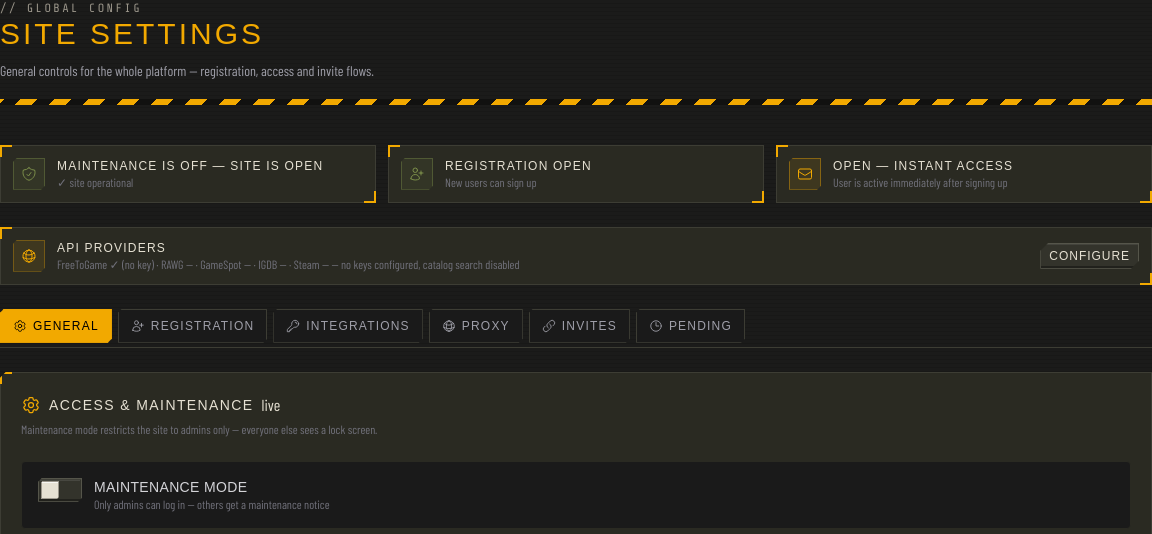
Test: GlobalSettingsForm tabs › reveals the panel that matches the clicked tab
Expected: the heading "Access & maintenance" is shown, [49,395,254,415]
Step 1. Click the button "Registration" → click(193, 326), box [118,309,267,343]
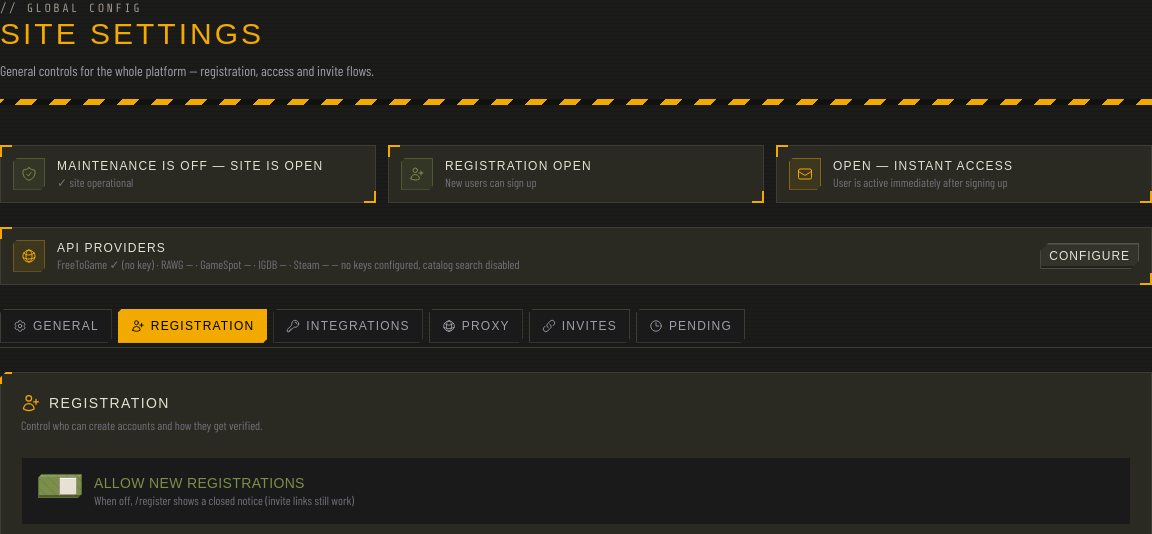
Result: the heading "Registration" is shown at [49,393,170,413]
Result: the heading "Access & maintenance" is gone
Step 2. Click the button "Integrations" → click(348, 326), box [273,309,423,343]
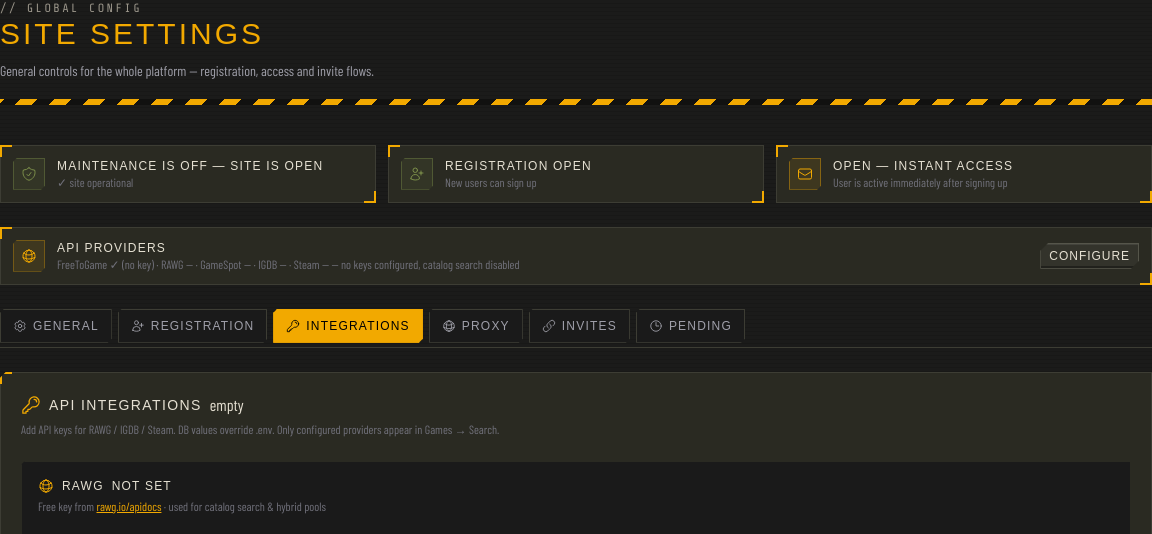
Result: the heading "API Integrations" is shown at [49,395,202,415]
Step 3. Click the button "Proxy" → click(476, 326), box [429,309,523,343]
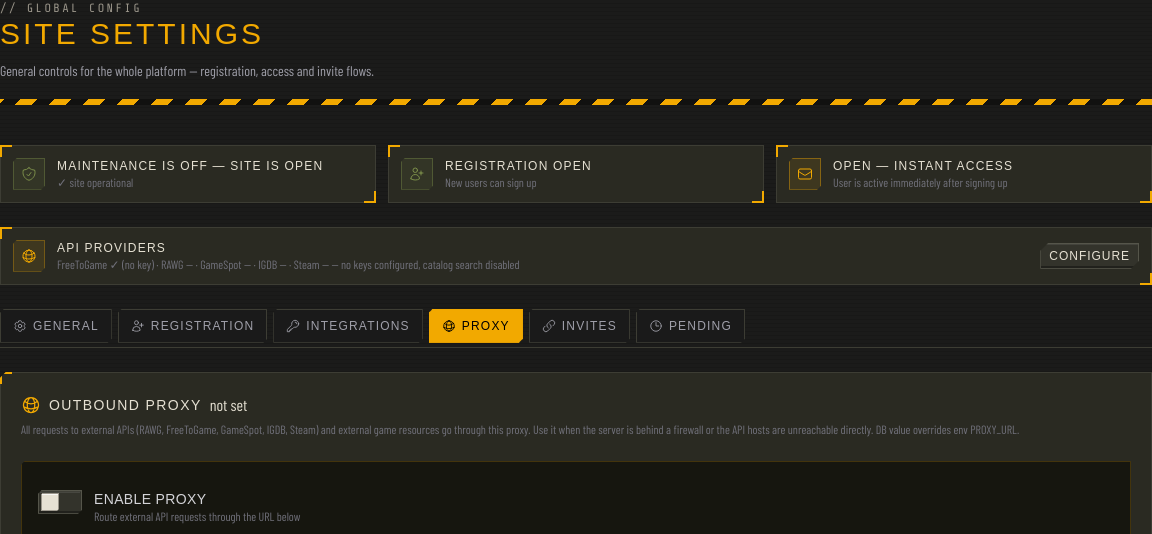
Result: the heading "Outbound proxy" is shown at [49,395,202,415]
Step 4. Click the button "Invites" → click(579, 326), box [529,309,630,343]
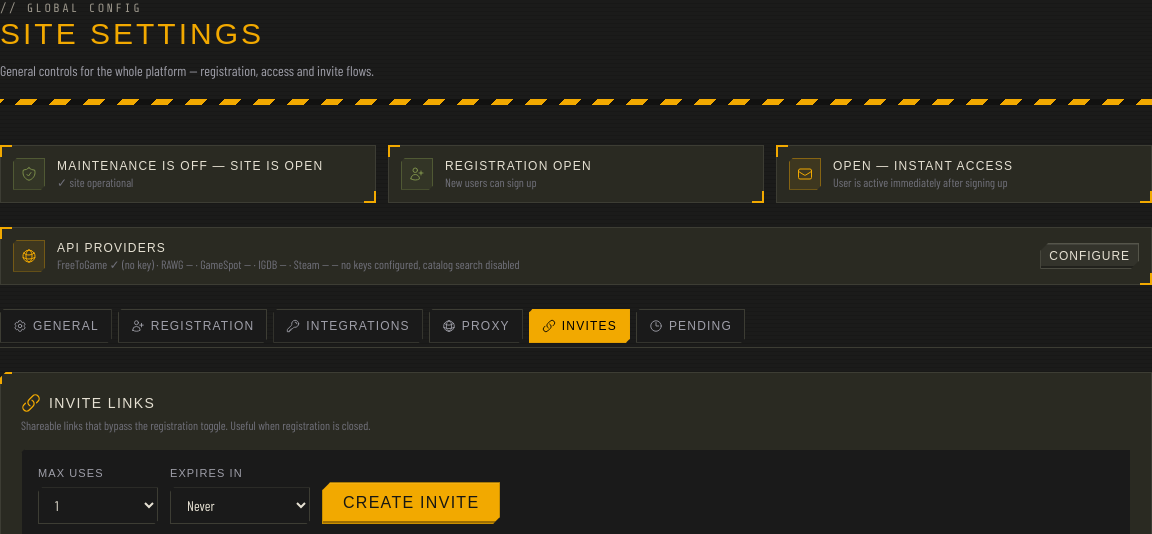
Result: the heading "Invite links" is shown at [49,393,155,413]
Step 5. Click the button "Pending" → click(690, 326), box [636,309,745,343]
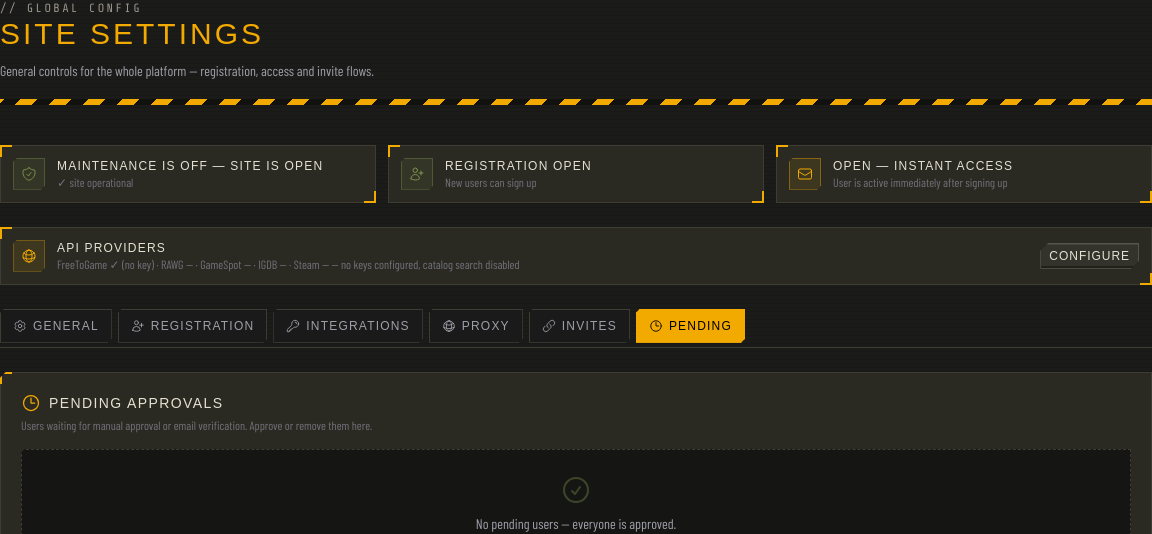
Result: the heading "Pending approvals" is shown at [49,393,224,413]
